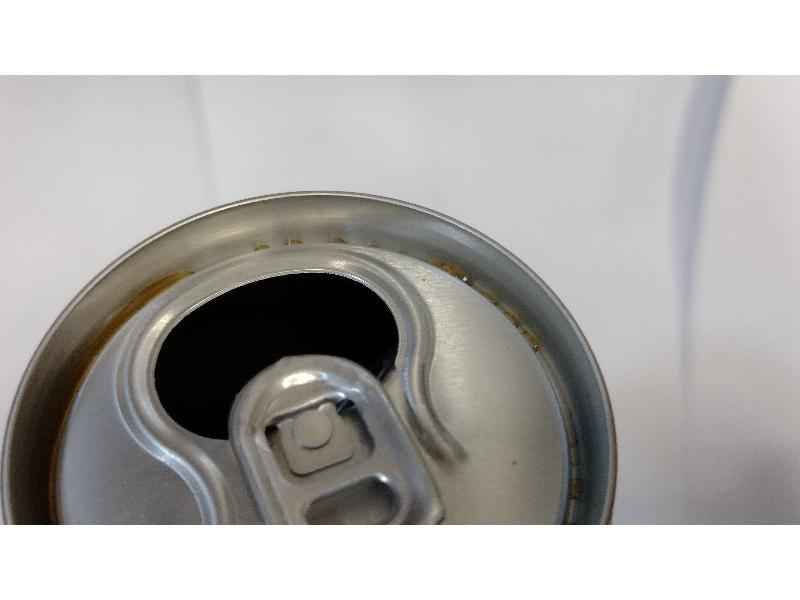can: (0, 174, 658, 531)
